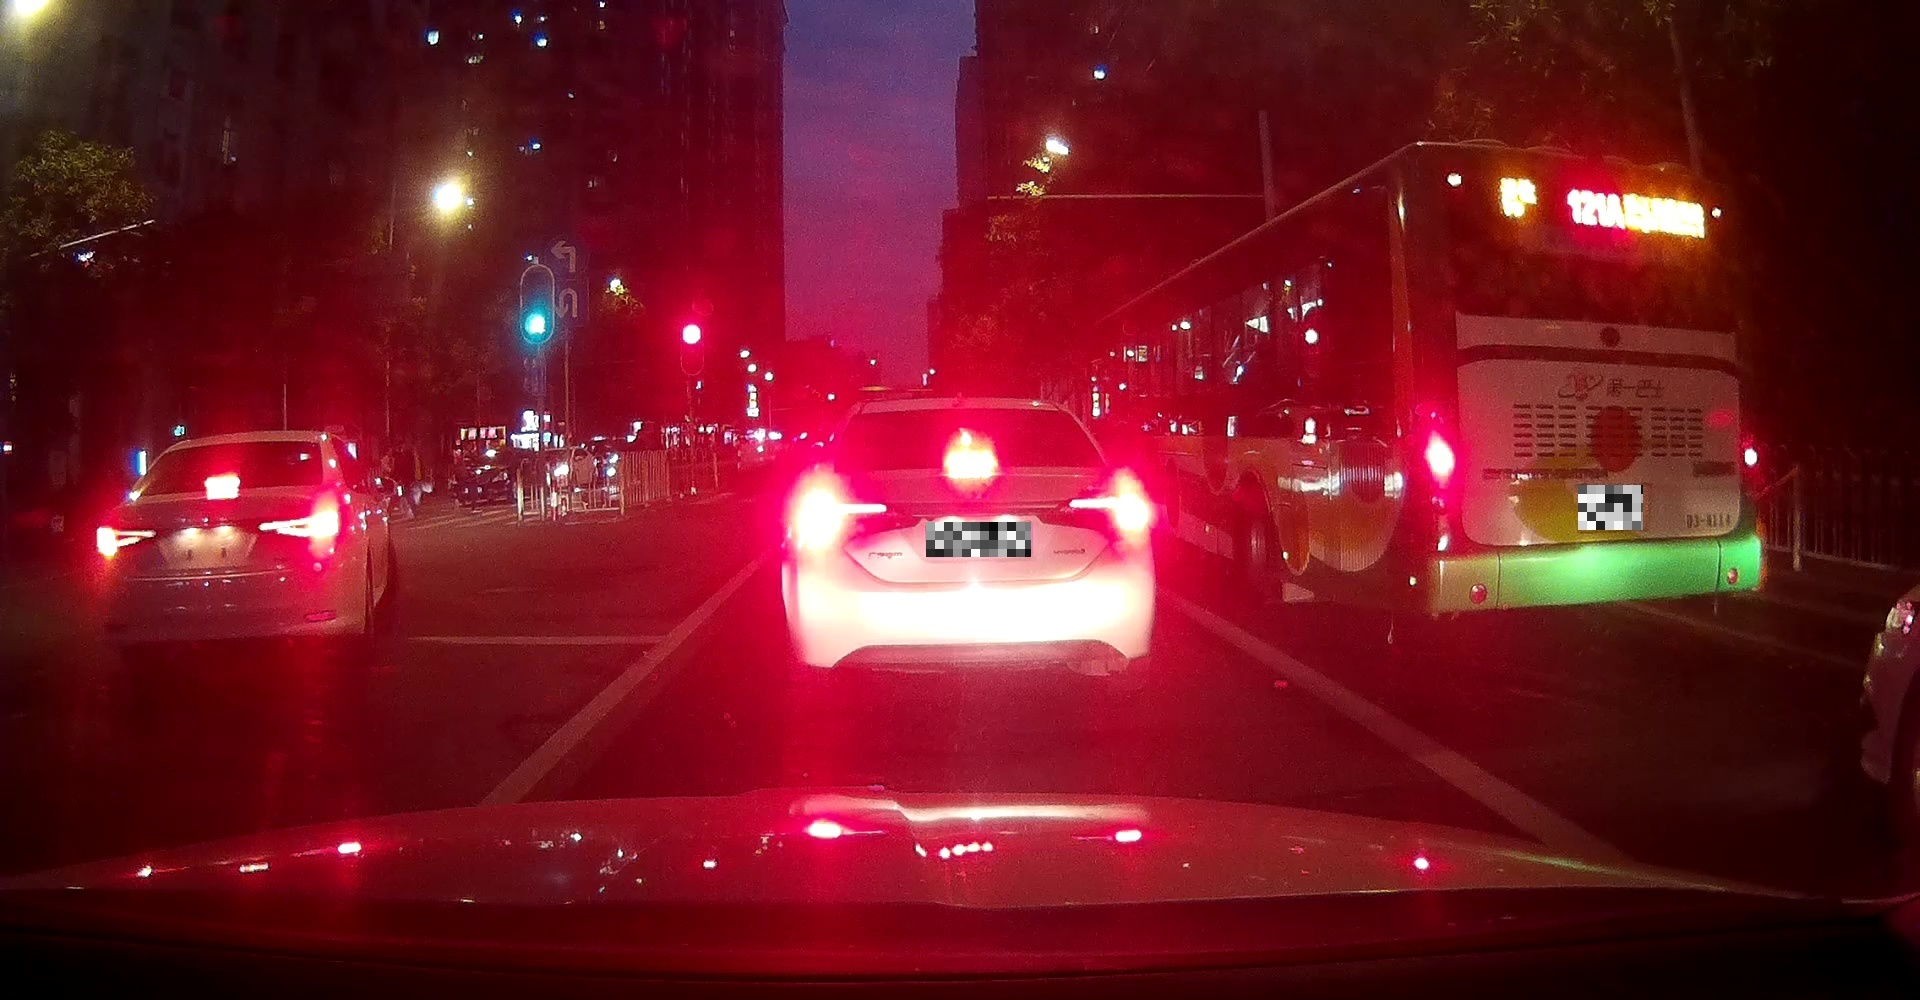L_light: (787, 470, 888, 555), (1412, 405, 1462, 504), (94, 525, 160, 558)
R_light: (1067, 468, 1152, 546), (257, 496, 340, 555), (1738, 426, 1765, 499)
T_light: (942, 443, 1001, 471), (1576, 164, 1625, 187), (201, 471, 240, 495)
night-brake: (780, 395, 1153, 681), (91, 430, 366, 673)
night-no: (1404, 140, 1765, 627)
plate_1: (926, 522, 1031, 557)
plate_2: (1578, 485, 1643, 530)
